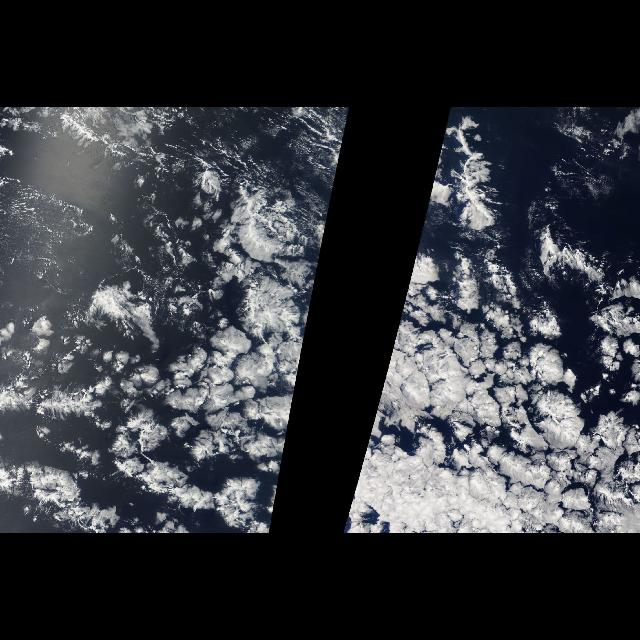Flower: (5, 163, 331, 533), (344, 176, 640, 534)
